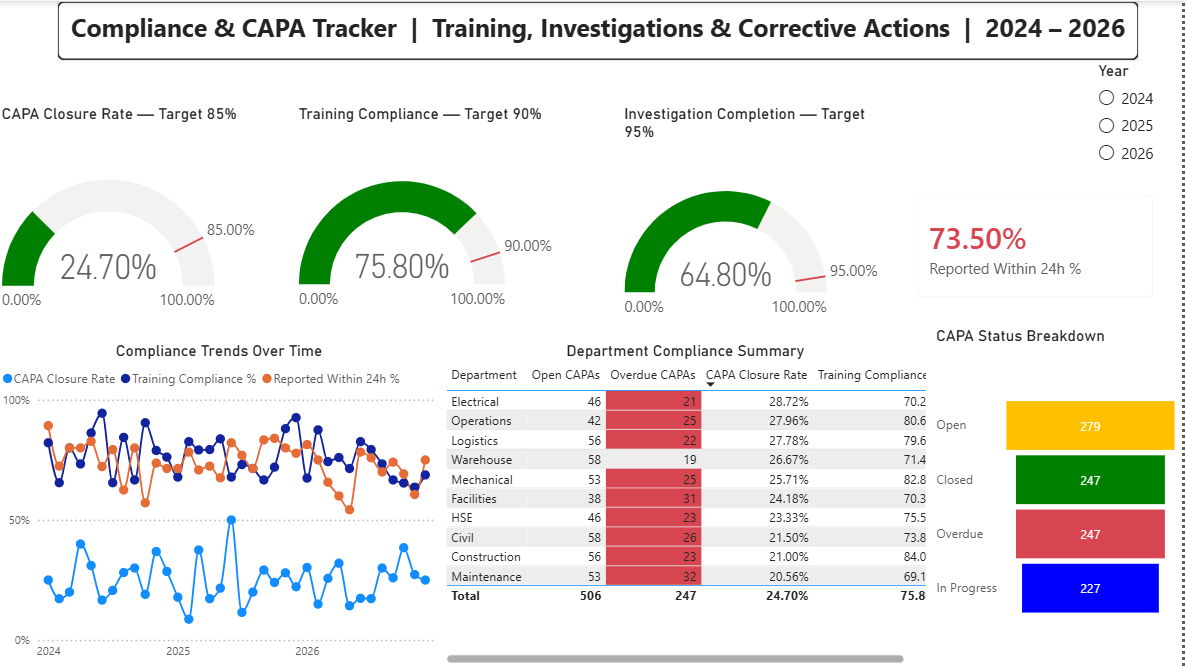

This screenshot's page, from the dashboard's own definition file:
{"tool":"powerbi","page":{"name":"Compliance & CAPA","canvas":[1280,720],"ordinal":3},"visuals":[{"type":"gauge","title":"CAPA Closure Rate — Target 85%","fields":{"Y":["OHS_Measures.CAPA Closure Rate"]},"box":[0,112,288,288],"z":0},{"type":"gauge","title":"Training Compliance — Target 90%","fields":{"Y":["OHS_Measures.Training Compliance %"]},"box":[320,112,288,288],"z":1000},{"type":"gauge","title":"Investigation Completion — Target 95%","fields":{"Y":["OHS_Measures.Investigation Completion %"]},"box":[672,112,288,288],"z":2000},{"type":"funnel","title":"CAPA Status Breakdown","fields":{"Category":["OHS_Incidents_2024_2026.CAPAStatus"],"Y":["OHS_Measures.Total Incidents"]},"box":[1008,352,272,368],"z":3000},{"type":"lineChart","title":"Compliance Trends Over Time","fields":{"Category":["OHS_Date_Table.YearMonth.Variation.Date Hierarchy.Year"],"Y":["OHS_Measures.CAPA Closure Rate","OHS_Measures.Training Compliance %","OHS_Measures.Reported Within 24h %"]},"box":[0,368,480,352],"z":4000},{"type":"tableEx","title":"Department Compliance Summary","fields":{"Values":["OHS_Incidents_2024_2026.Department","OHS_Measures.Open CAPAs","OHS_Measures.Overdue CAPAs","OHS_Measures.CAPA Closure Rate","OHS_Measures.Training Compliance %"]},"box":[480,368,528,352],"z":5000},{"type":"cardVisual","fields":{"Data":["OHS_Measures.Reported Within 24h %"]},"box":[976,192,288,144],"z":6000},{"type":"textbox","box":[64,0,1168,64],"z":7000},{"type":"listSlicer","fields":{"Values":["OHS_Date_Table.Year"]},"box":[1184,64,96,128],"z":8000}]}

Visuals, with their boxes in screenshot pixels (x1, y1, x2, y2), scaled from the page's 1280x720 canvas onto the 1186x666 screenshot:
"CAPA Closure Rate — Target 85%" gauge: rect(0, 104, 267, 370)
"Training Compliance — Target 90%" gauge: rect(296, 104, 563, 370)
"Investigation Completion — Target 95%" gauge: rect(623, 104, 890, 370)
"CAPA Status Breakdown" funnel: rect(934, 326, 1185, 665)
"Compliance Trends Over Time" lineChart: rect(0, 340, 445, 665)
"Department Compliance Summary" tableEx: rect(445, 340, 934, 665)
cardVisual - OHS_Measures.Reported Within 24h %: rect(904, 178, 1171, 311)
textbox: rect(59, 0, 1142, 59)
listSlicer - OHS_Date_Table.Year: rect(1097, 59, 1185, 178)
